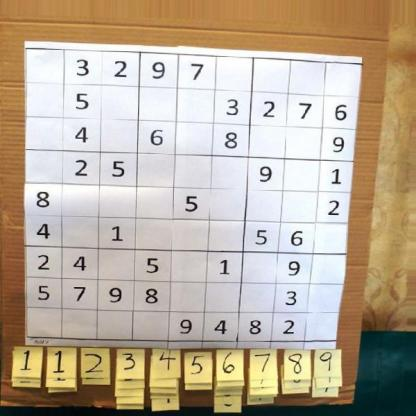sudoku: (22, 44, 363, 343)
